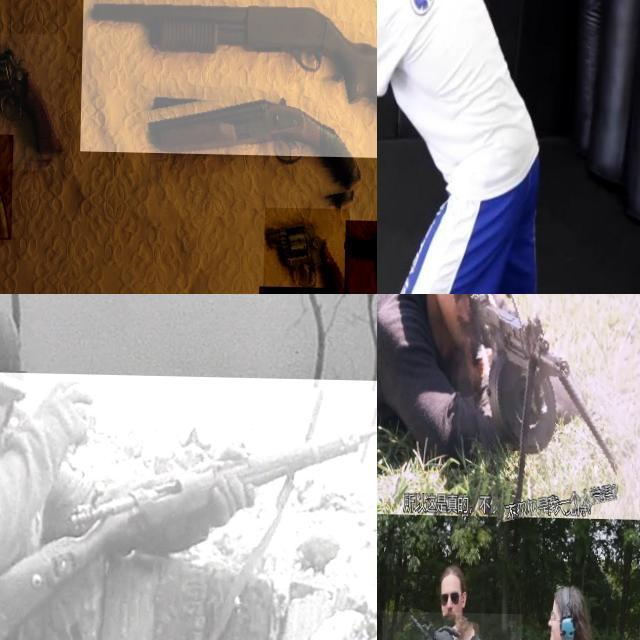-: (377, 144, 414, 202)
gun-knife-thesis - v11 Yolov5 augmented: (0, 371, 377, 640), (80, 0, 377, 157), (456, 294, 623, 516), (377, 294, 529, 511), (145, 78, 363, 218), (0, 32, 61, 169), (264, 205, 350, 294), (0, 132, 42, 239), (382, 609, 524, 640), (344, 218, 377, 294)
